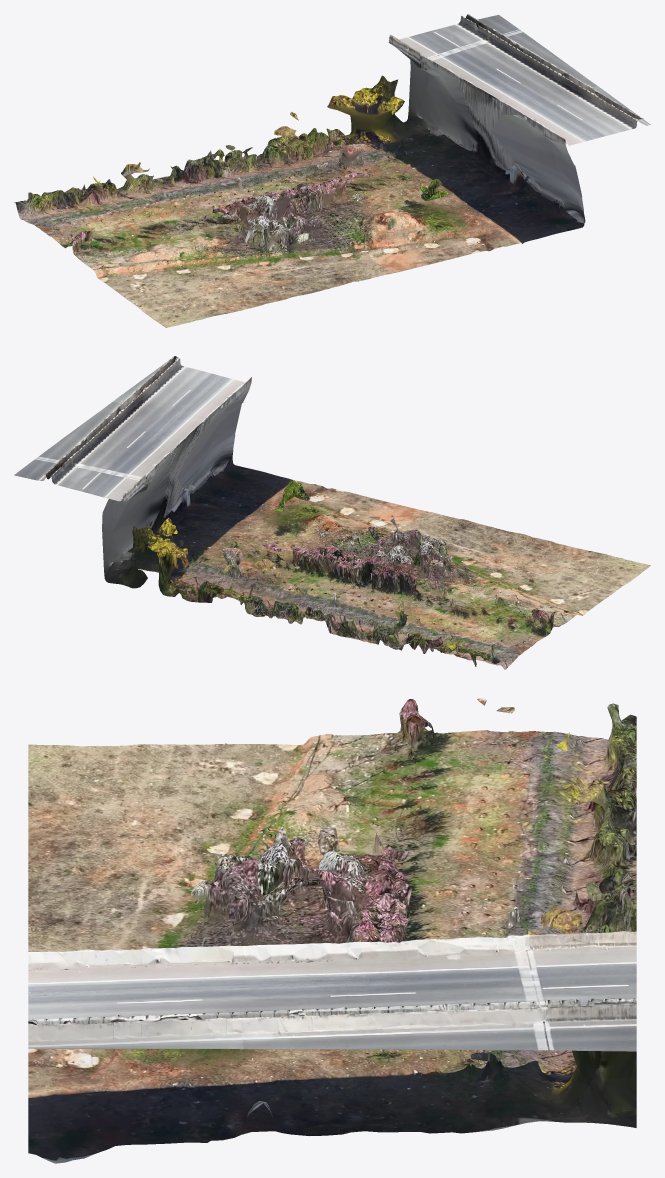
Rendered from BlockYY_L20_316.glb.
The picture shows the model from 3 angles, top to bottom: view 1: azimuth 30°, elevation 25°; view 2: azimuth 150°, elevation 25°; view 3: azimuth 270°, elevation 25°; orthographic projection. The views are drawn at different scales.
Parts seen in each view (by area): view 1: rtc; view 2: rtc; view 3: rtc.
Boxes of the visible parts, x1=… form: rtc: x1=14, y1=14, x2=650, y2=327; rtc: x1=14, y1=356, x2=650, y2=669; rtc: x1=28, y1=698, x2=636, y2=1163.
Size of the model in its own units: 78.63 by 14.96 by 42.74.
12 materials, 12 textured.
